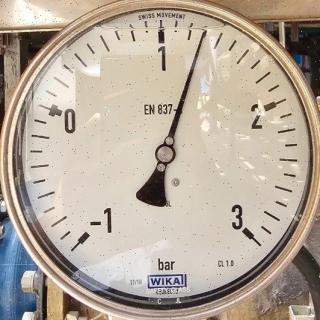gauge: (0, 0, 320, 320), (64, 206, 114, 260), (228, 214, 260, 246), (154, 143, 176, 165), (199, 27, 209, 41)
